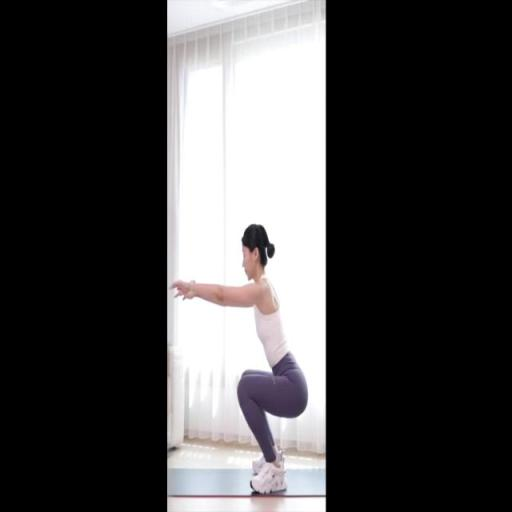Normal_BrenchPress: (171, 223, 309, 496)
